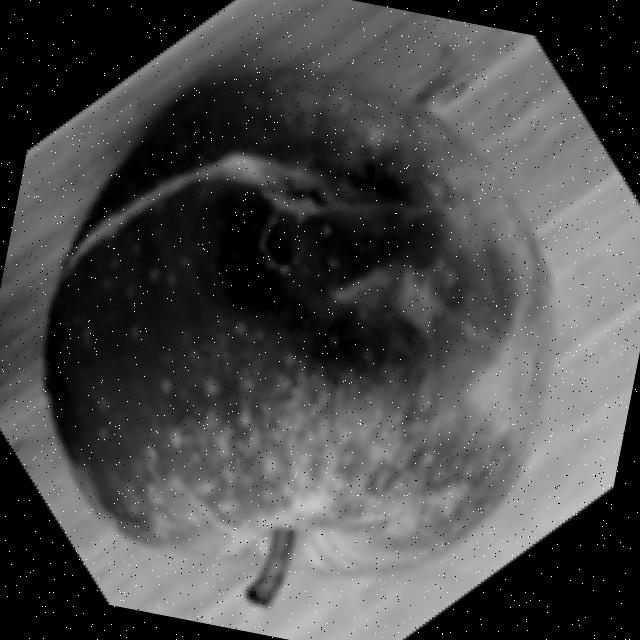Rotten: (4, 33, 609, 631)
